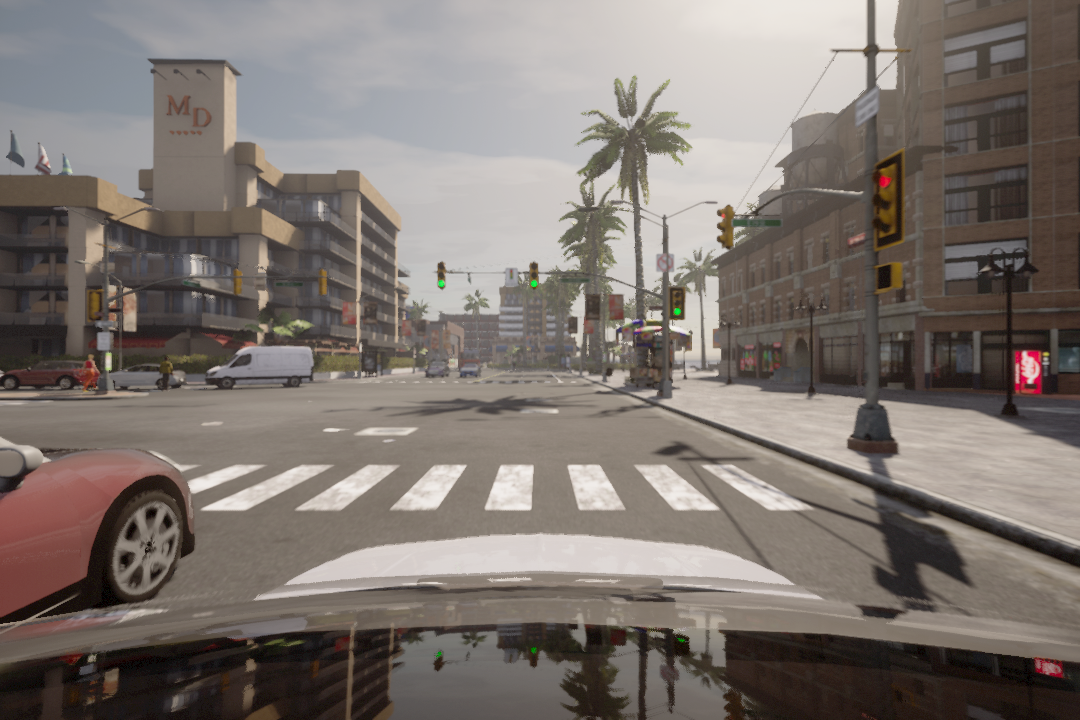TrafficLight: (865, 154, 900, 244), (715, 201, 738, 253), (672, 283, 686, 323), (527, 262, 541, 291), (437, 261, 447, 287)
TrafficSign: (657, 252, 674, 273)
walkside: (161, 461, 877, 521)
